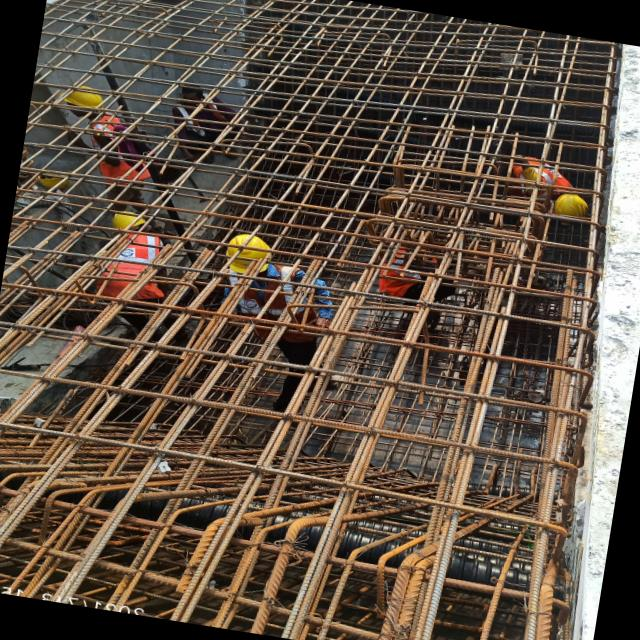cement: (566, 44, 640, 640)
